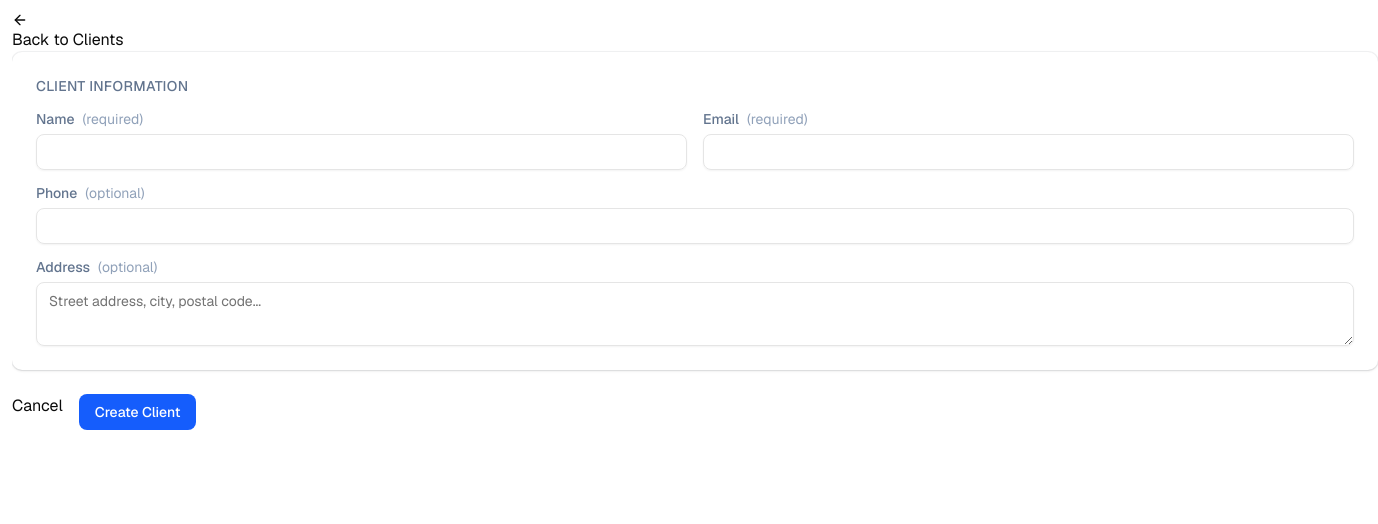
Test case: ClientForm › validation › shows error for invalid email format
Type "Test Client" into the field labelled "Name (required)" at (362, 152), box [36,134,687,170]
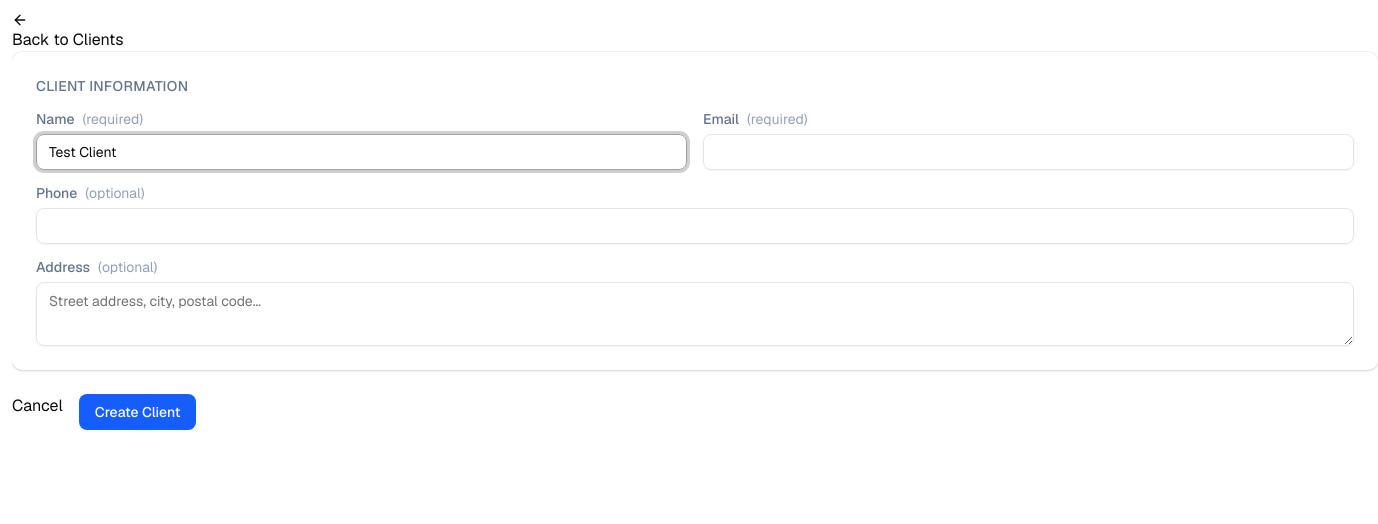
Type "invalid-email" into the field labelled "Email (required)" at (1028, 152), box [703,134,1354,170]
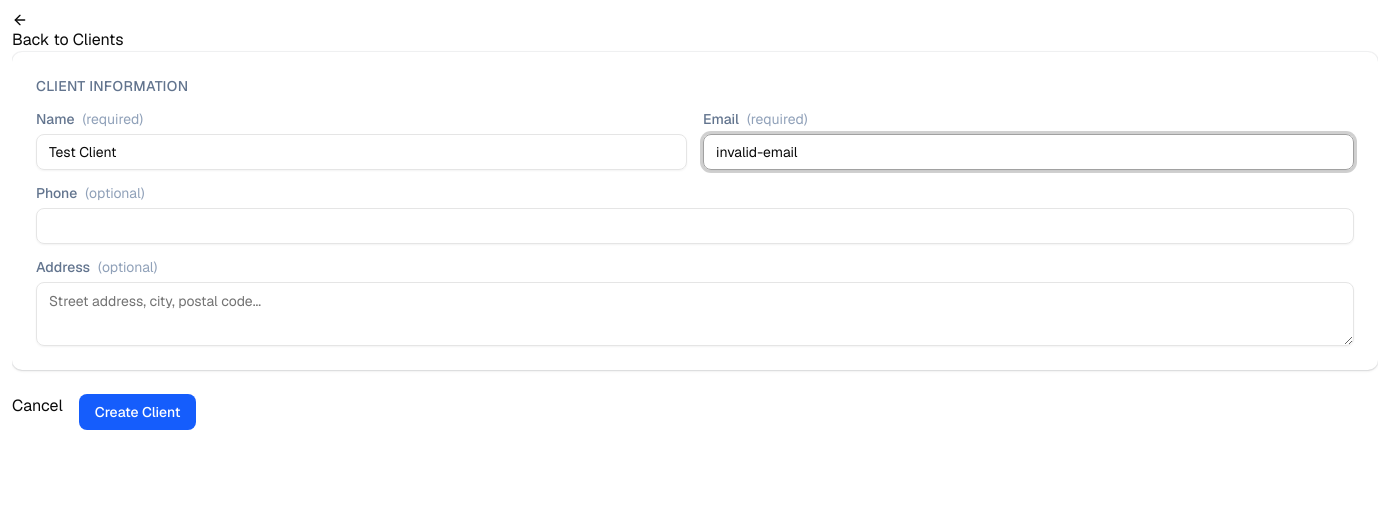
Click the button "Create Client" at (138, 412), box [79,394,196,430]
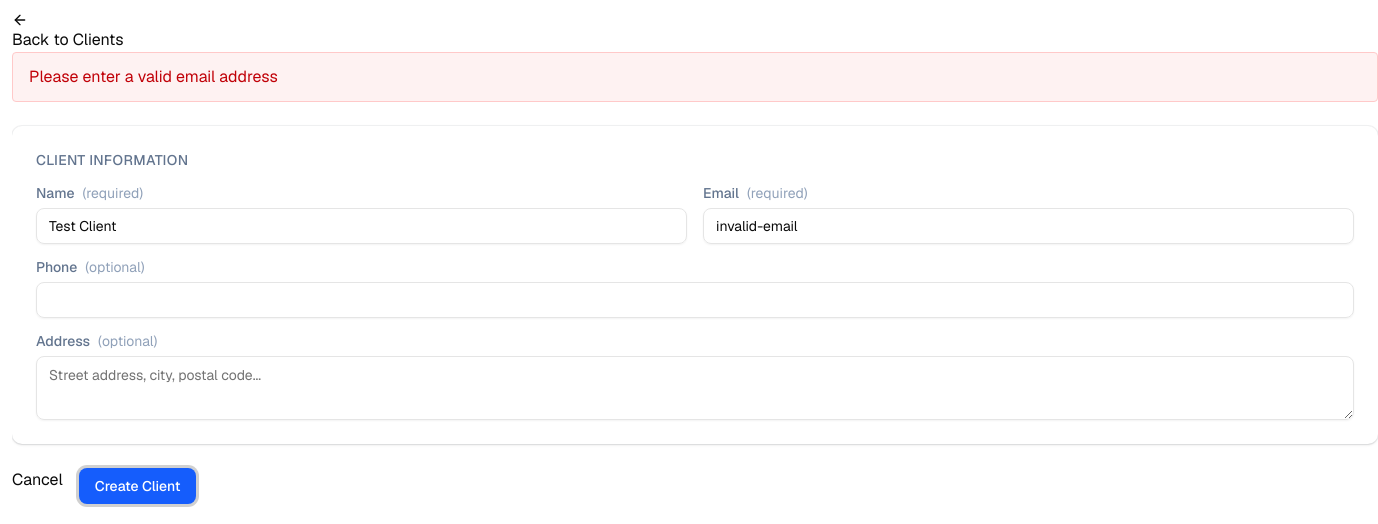
Expected: the text "Please enter a valid email address" is shown, [12,52,1377,102]
